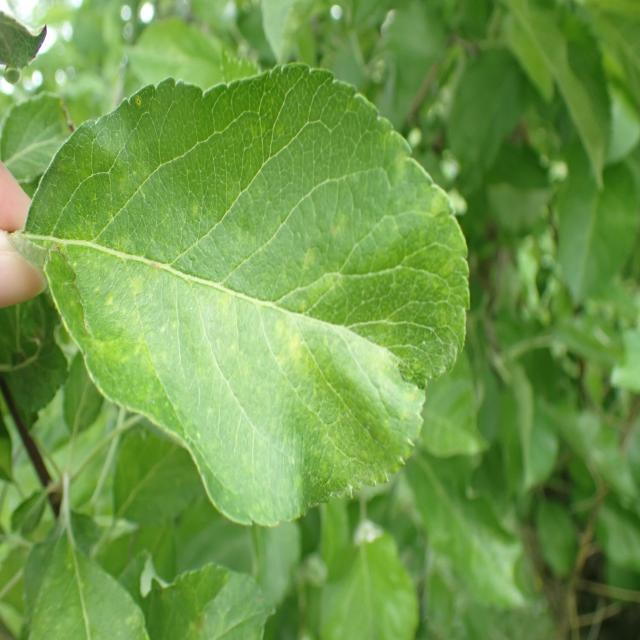scab: (31, 106, 440, 493)
